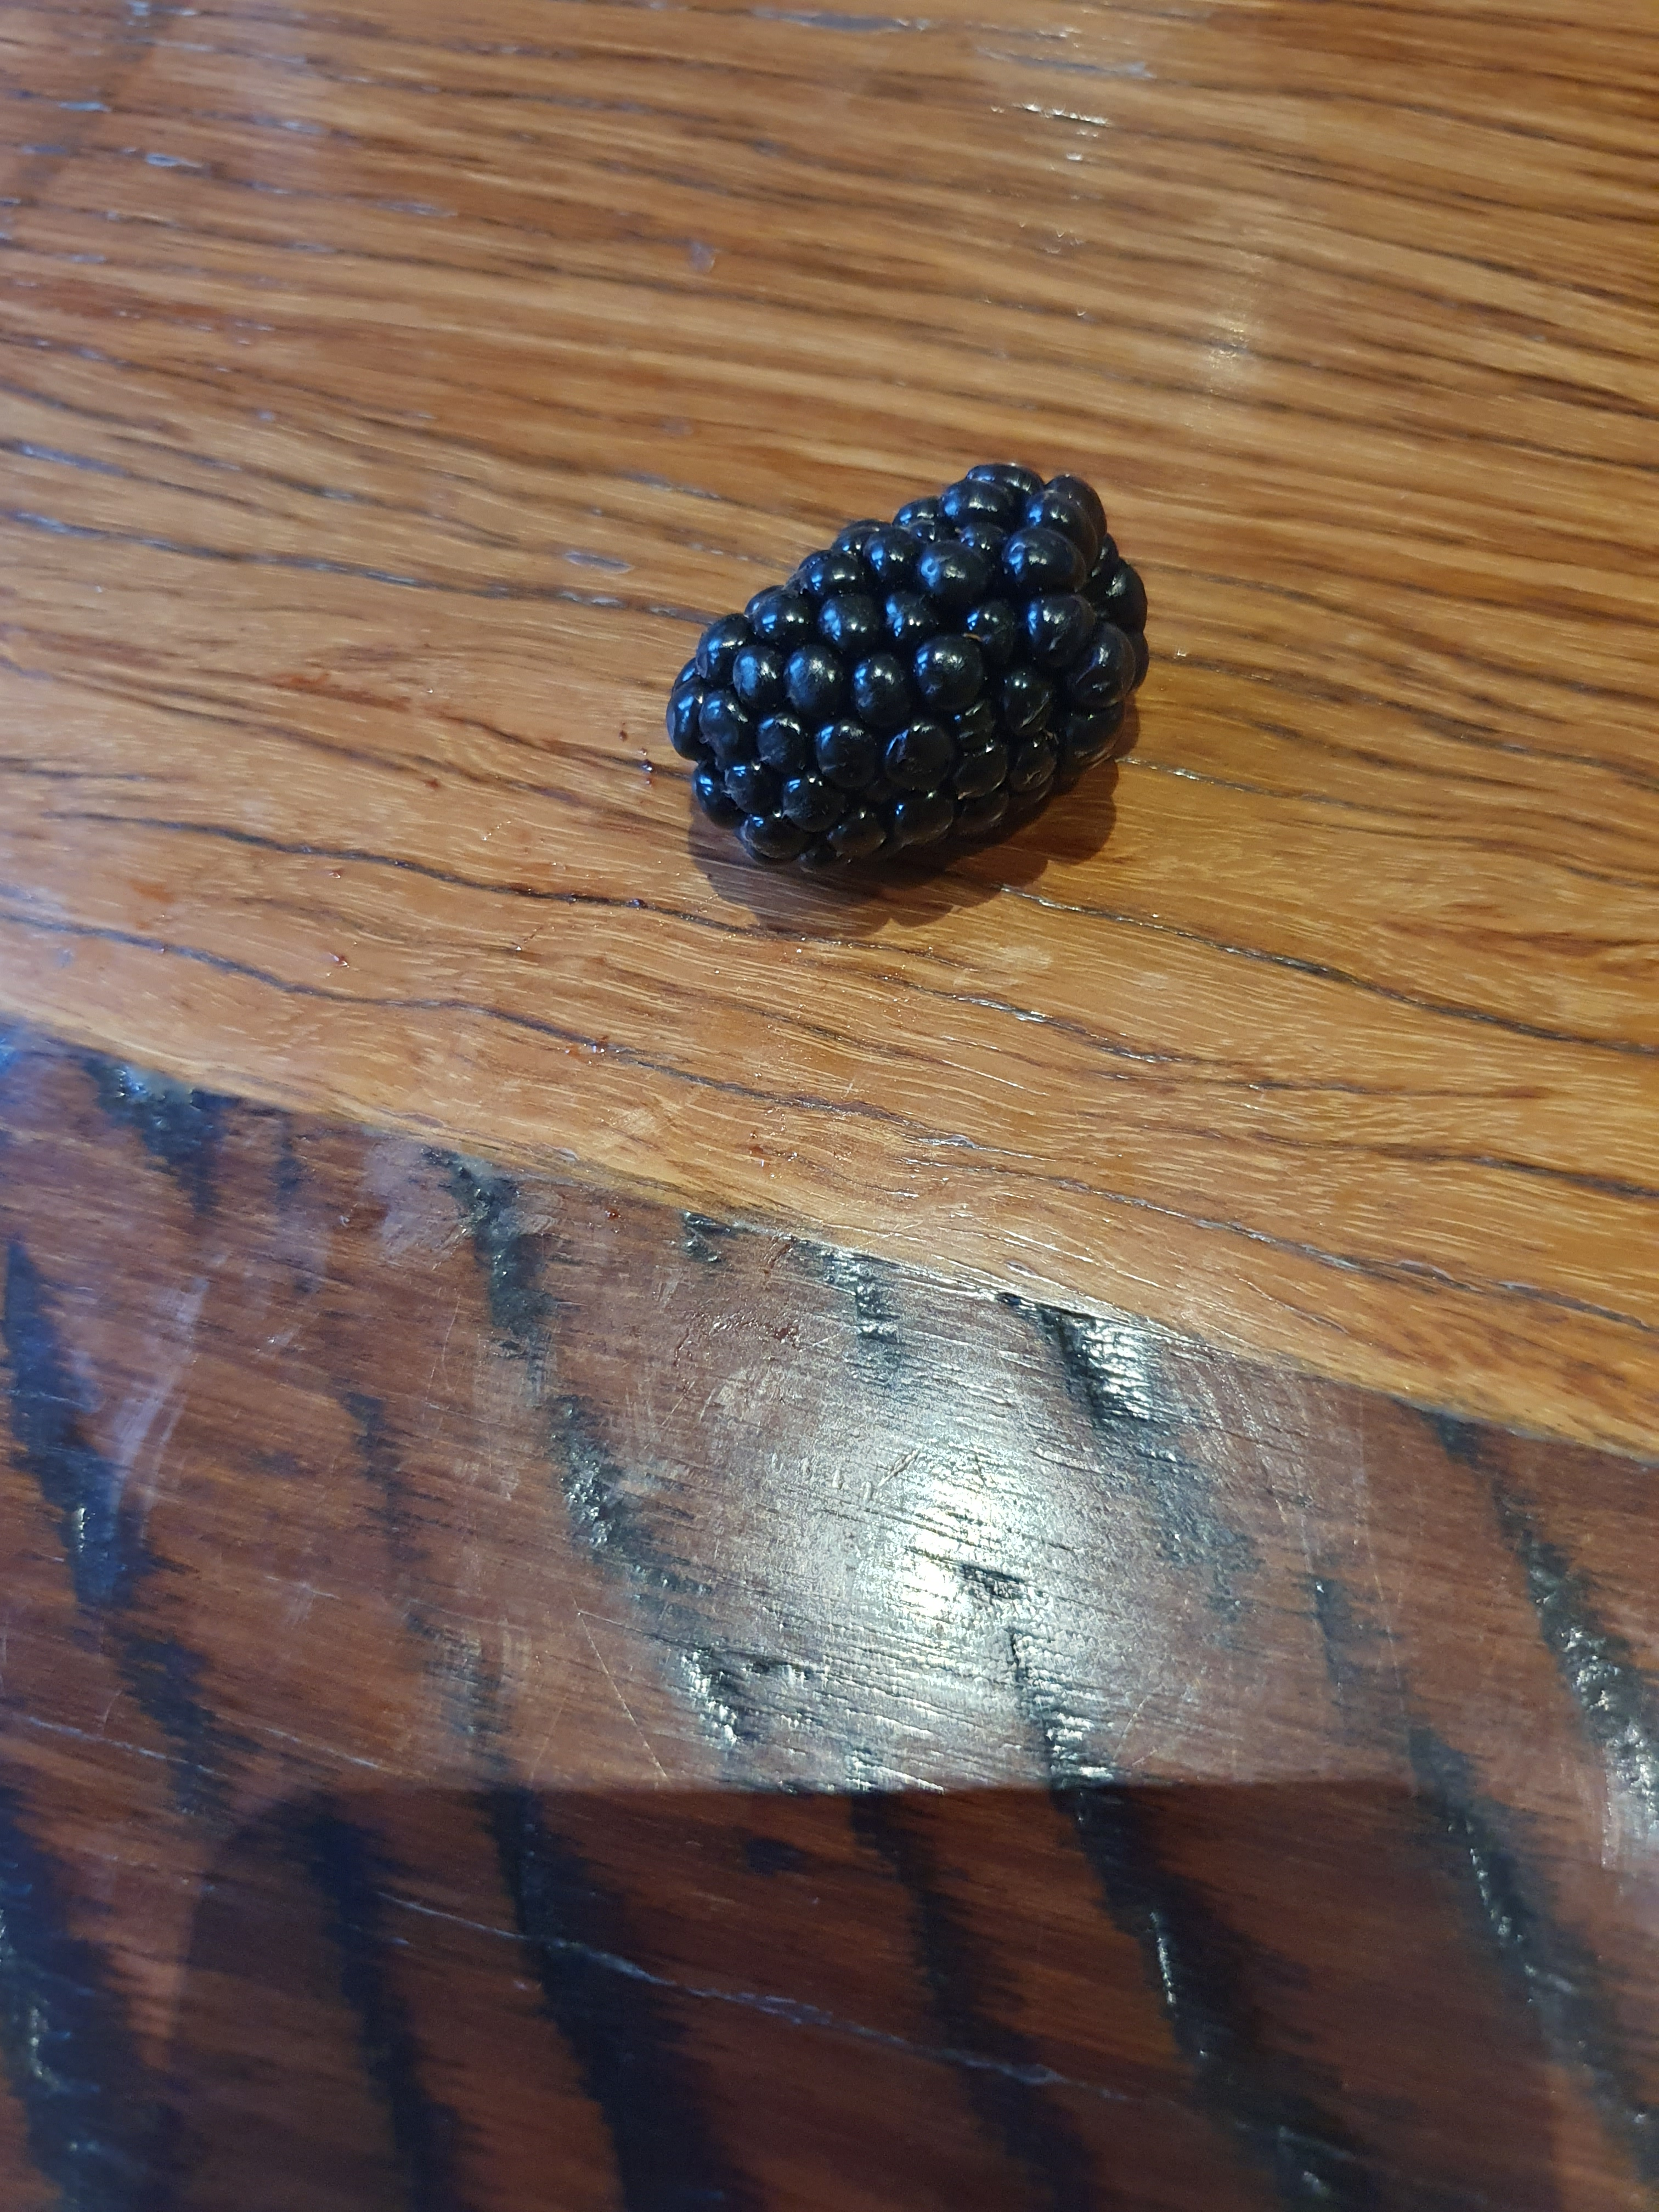blackberry: (606, 435, 1175, 906)
